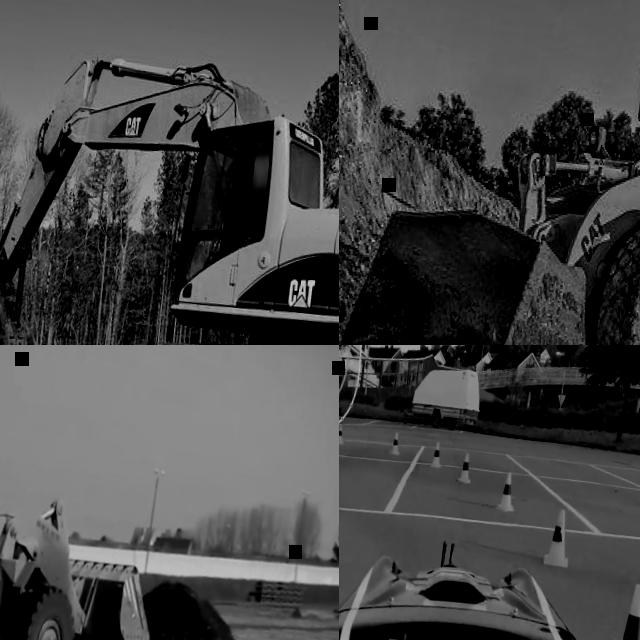Safety Cone: (604, 576, 640, 640), (544, 506, 573, 569), (498, 468, 520, 513), (456, 450, 473, 486), (389, 428, 404, 458), (430, 440, 442, 470), (339, 422, 345, 446)
vehicle: (0, 33, 339, 345), (339, 0, 640, 345), (0, 399, 173, 640), (339, 505, 640, 640)
